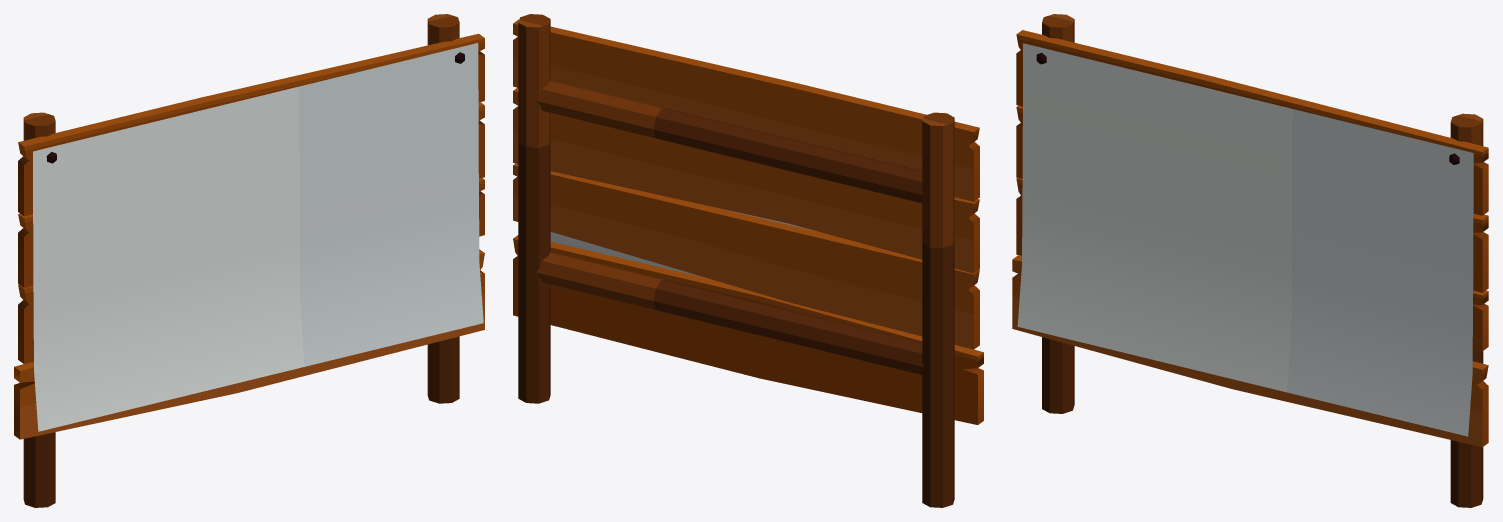
File: SM_signBig.fbx
3 renders of one model, left to right at view 1: azimuth 30°, elevation 25°; view 2: azimuth 150°, elevation 25°; view 3: azimuth 330°, elevation 25°, orthographic.
Parts seen in each view (by area): view 1: signBig; view 2: signBig; view 3: signBig.
Part boxes in pixels (x1,y1,x2,y2): signBig: (14, 14, 484, 507); signBig: (513, 14, 983, 507); signBig: (1012, 14, 1488, 507).
Bounding box in the file's own units: 159 × 125 × 16.44.
1 material, 1 textured.
